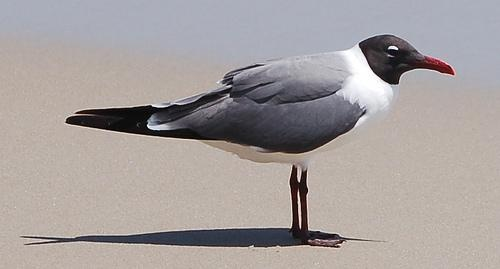bird: (67, 30, 456, 243)
